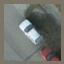car: (19, 18, 42, 46)
